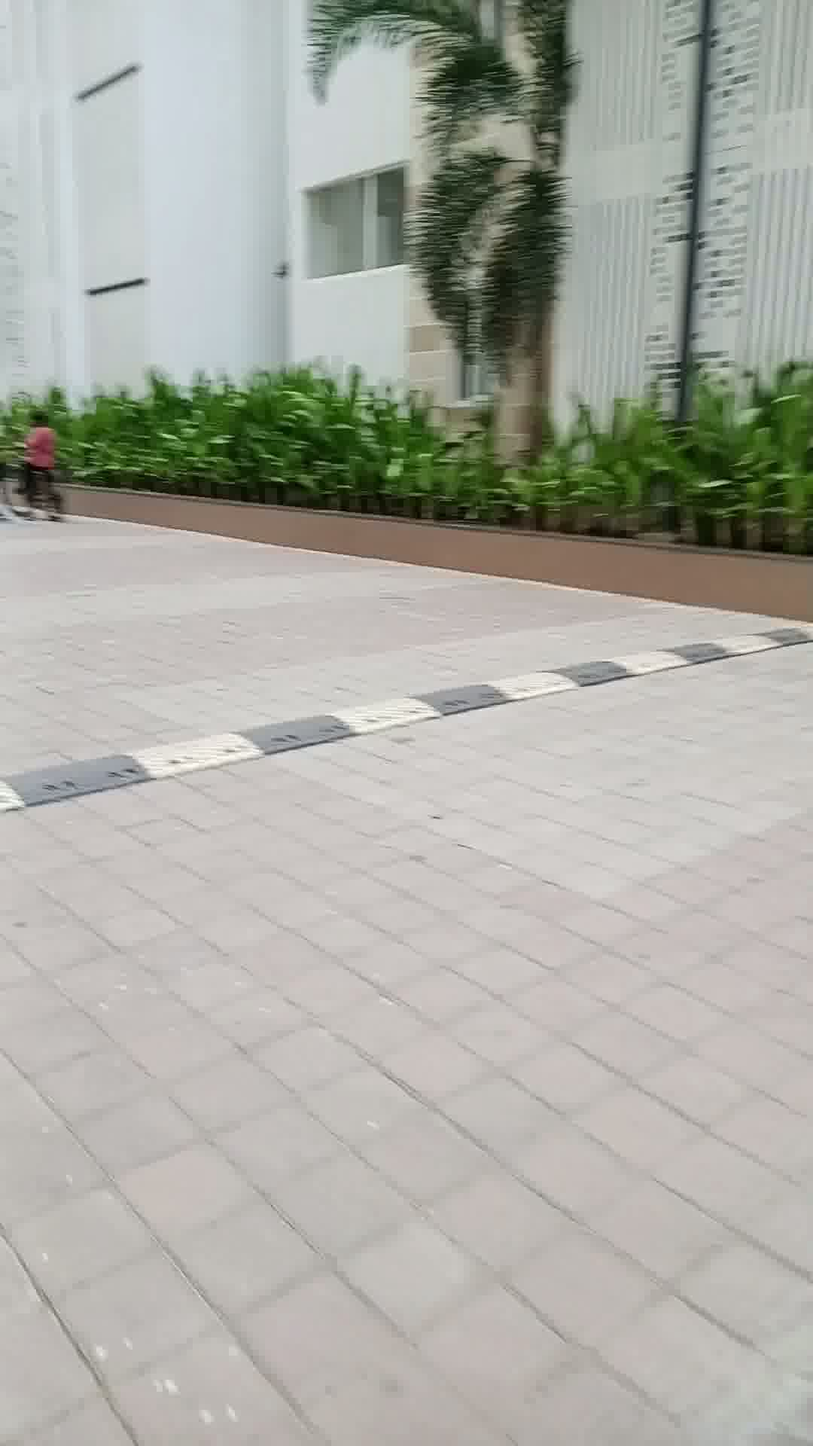person: (9, 399, 77, 524)
tree: (304, 3, 612, 512)
